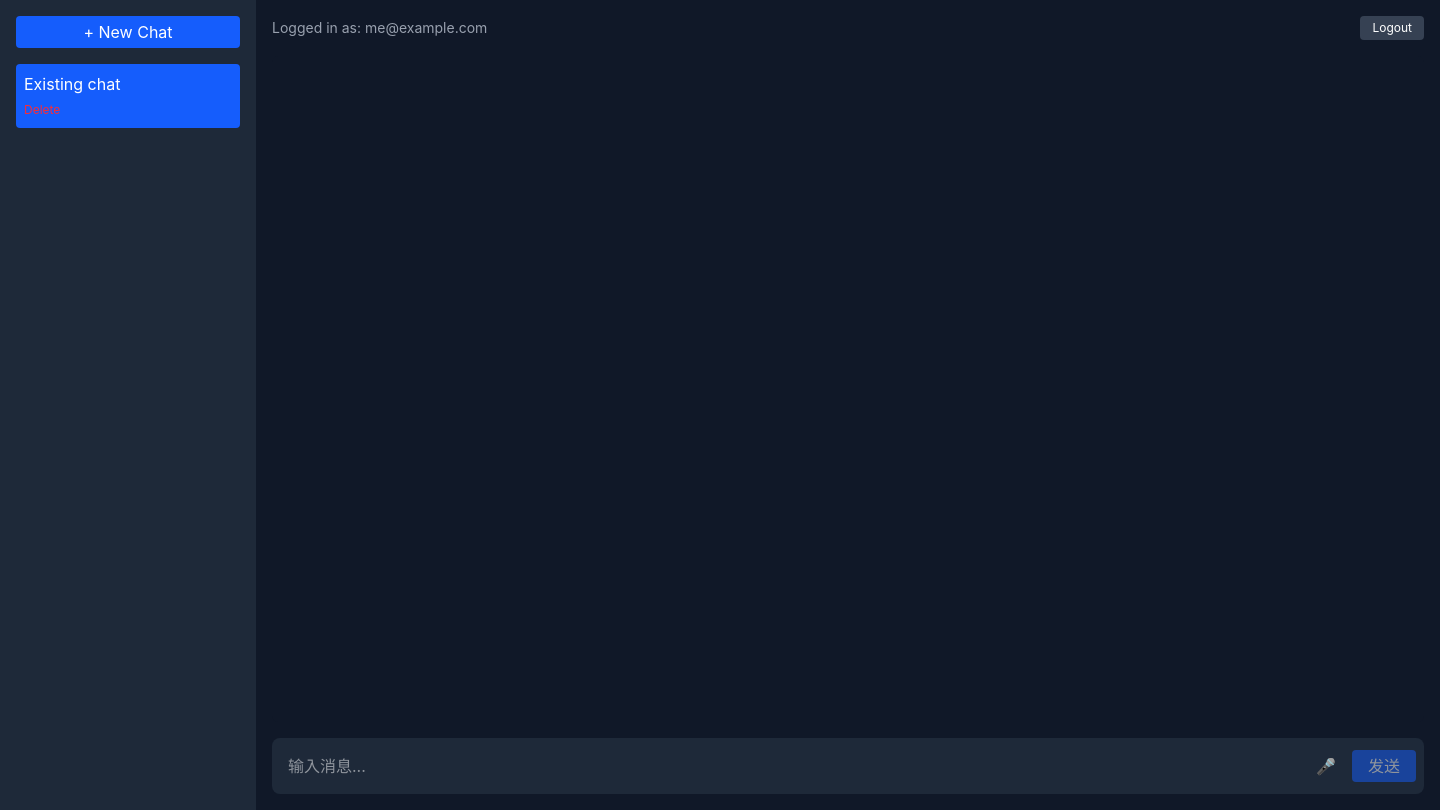
Home – sending a message › multi-turn: a follow-up in the same session includes the reply just streamed
Expected: the text "Existing chat" is shown, [24,74,120,94]
Type "第一个问题" into the field with placeholder "输入消息..." at (790, 766), box [280,754,1300,778]
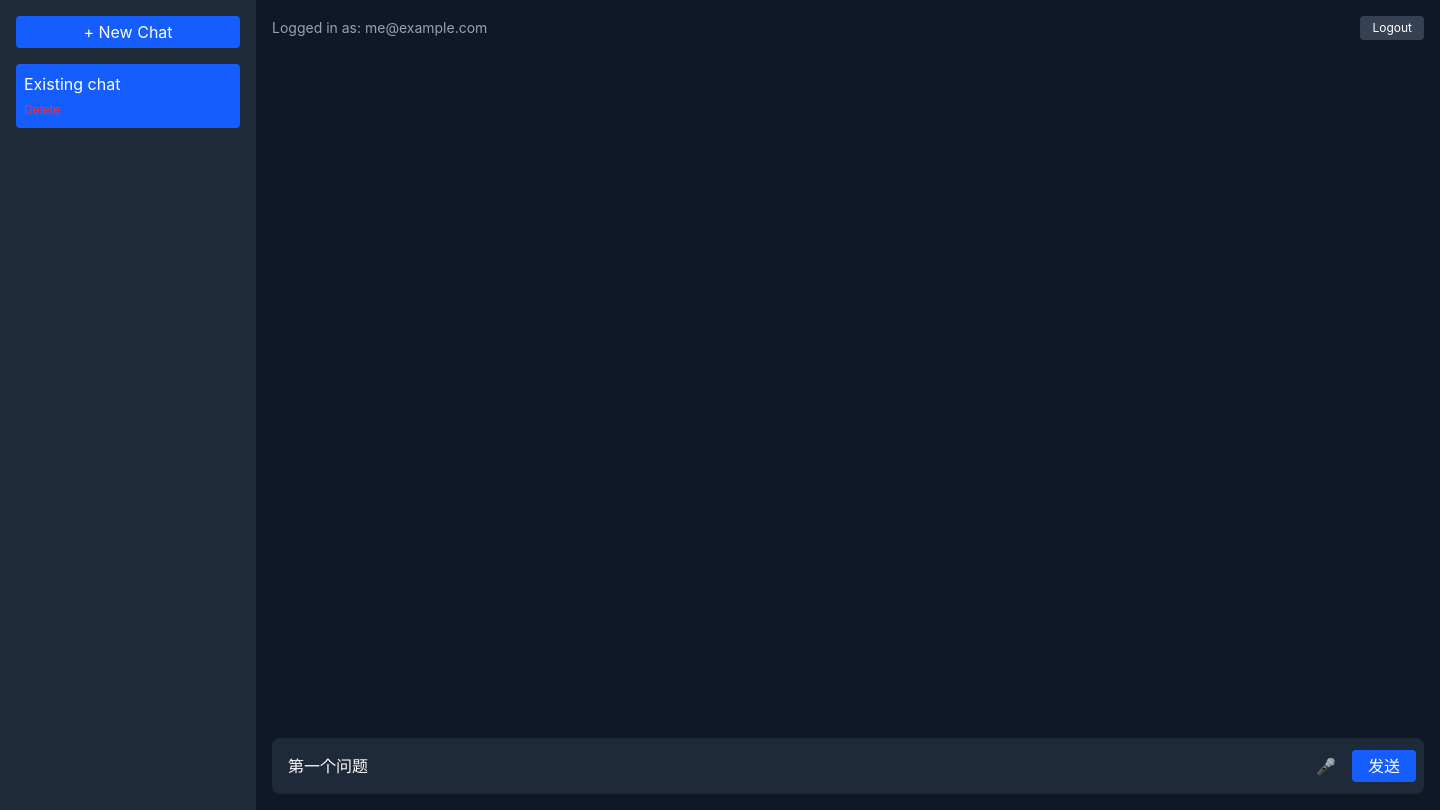
Click the button "发送" at (1384, 766), box [1352,750,1416,782]
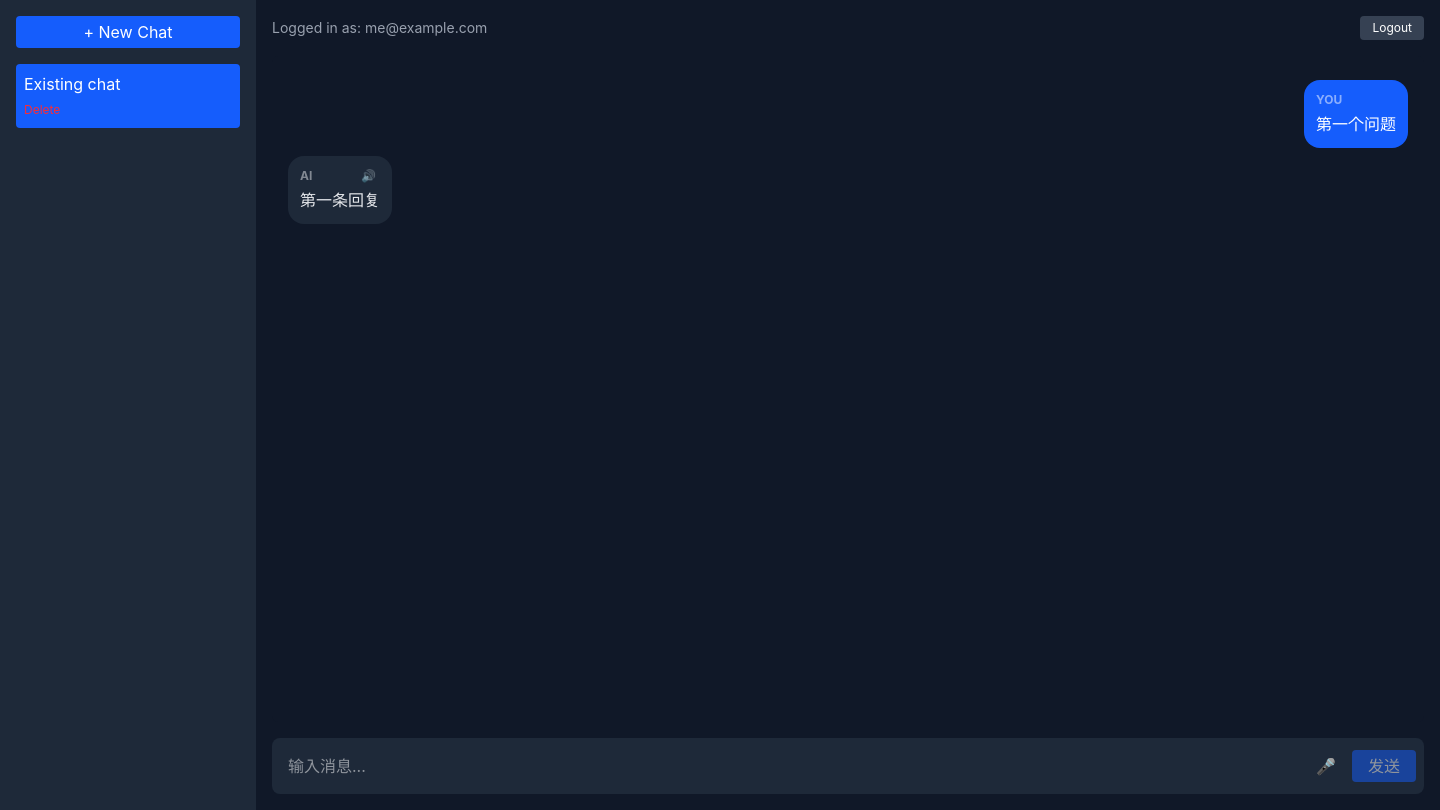
Expected: the text "第一条回复" is shown, [300,188,380,212]
Type "第二个问题" into the field with placeholder "输入消息..." at (790, 766), box [280,754,1300,778]
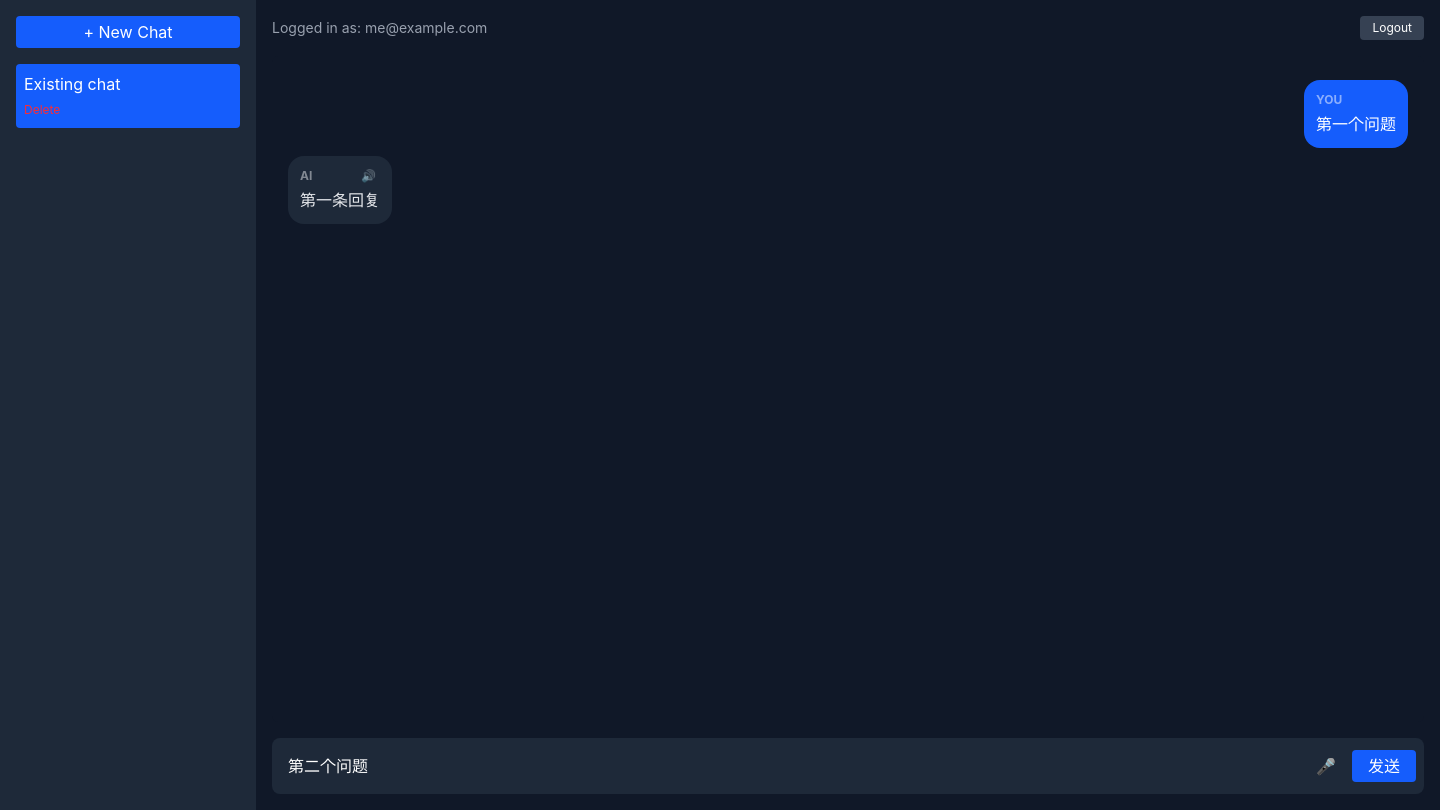
Click the button "发送" at (1384, 766), box [1352,750,1416,782]
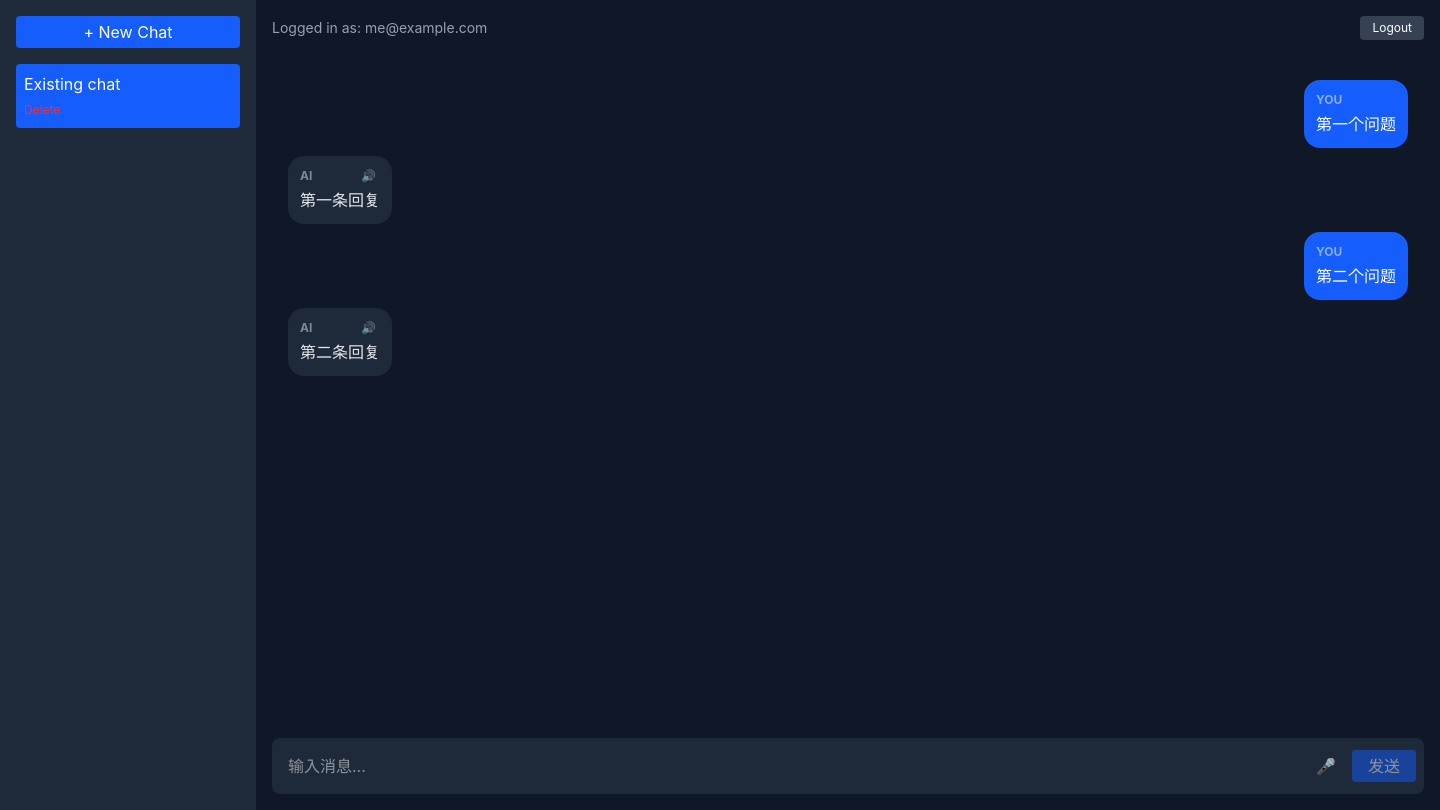
Expected: the text "第二条回复" is shown, [300,340,380,364]
